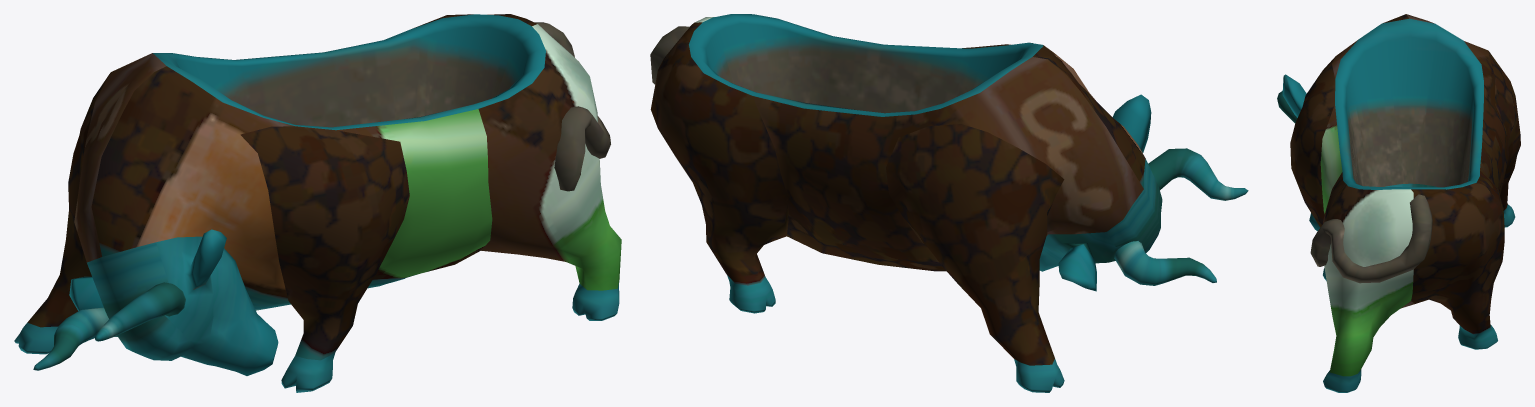
The model's file is zodiac_taurus.fbx.
3 renders of one model, left to right at view 1: azimuth 30°, elevation 25°; view 2: azimuth 150°, elevation 25°; view 3: azimuth 270°, elevation 25°, orthographic. The views are drawn at different scales.
Visible parts, largest first — view 1: Body_low__mBody.001; view 2: Body_low__mBody.001; view 3: Body_low__mBody.001.
Part boxes in pixels (box(x1,y1,x2,y2)): Body_low__mBody.001: box(14, 14, 621, 392); Body_low__mBody.001: box(650, 14, 1248, 392); Body_low__mBody.001: box(1277, 14, 1520, 392).
Bounding box in the file's own units: 187 × 93.09 × 90.52.
